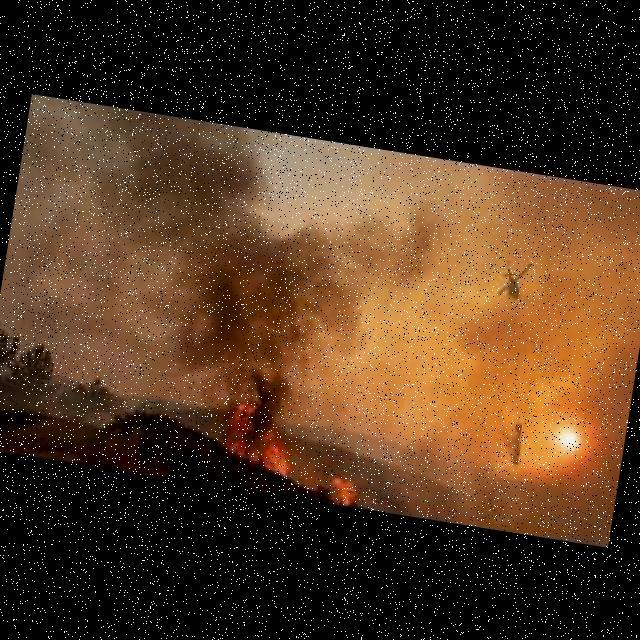Fire: (218, 397, 369, 502)
Smoke: (126, 143, 451, 399), (226, 316, 306, 442)
